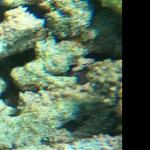dead: (3, 1, 118, 146)
